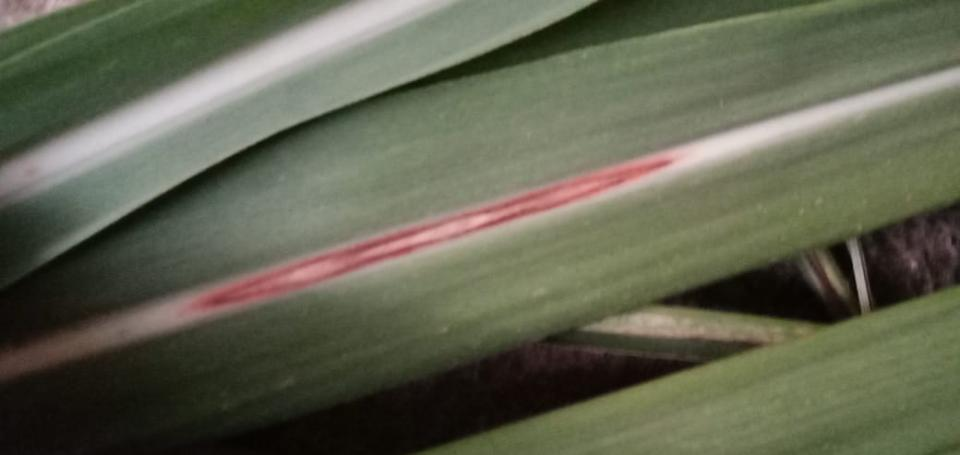RedRot: (176, 158, 679, 315)
